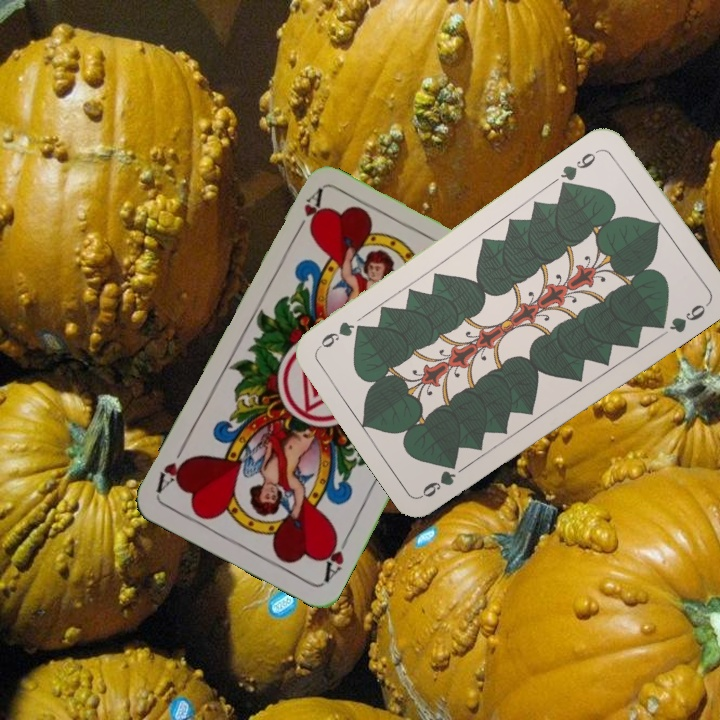G9: (555, 144, 604, 191), (418, 462, 459, 500)
HA: (289, 186, 325, 240), (319, 529, 353, 585)
